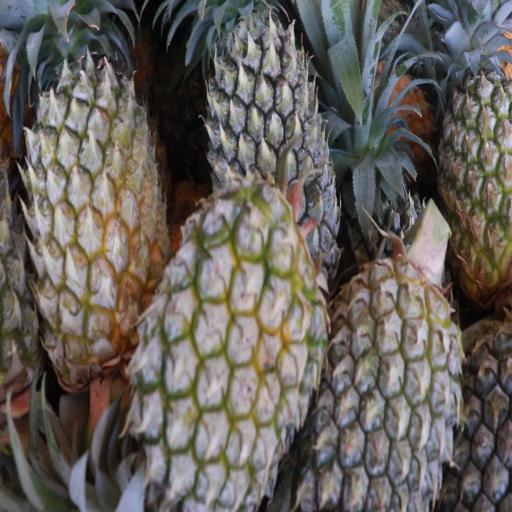------------------------------: (138, 187, 321, 511), (29, 0, 164, 367), (437, 66, 512, 294)
